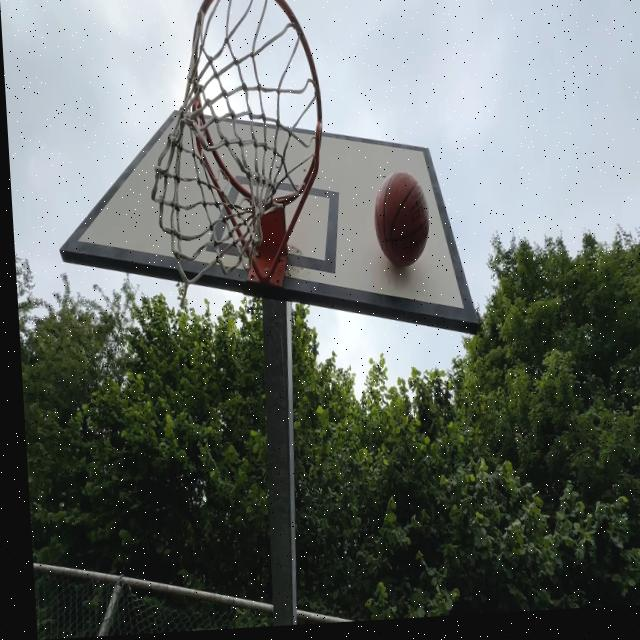rebound_hit: (373, 171, 433, 278)
